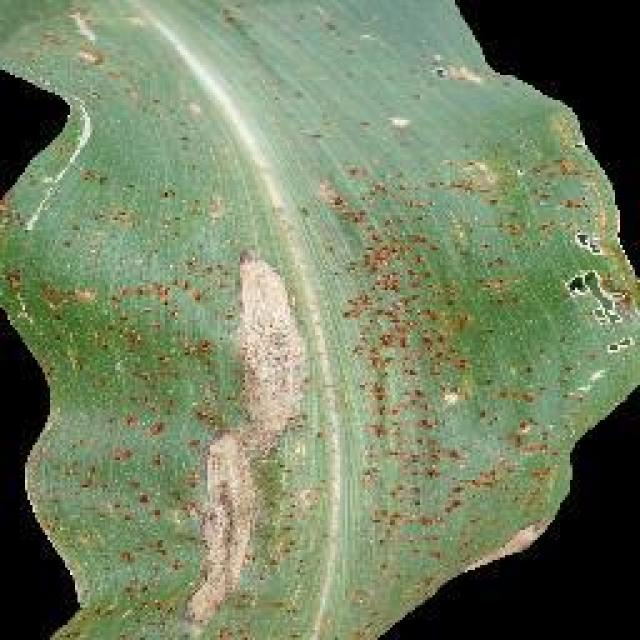Corn Common Rust: (37, 110, 530, 568)
